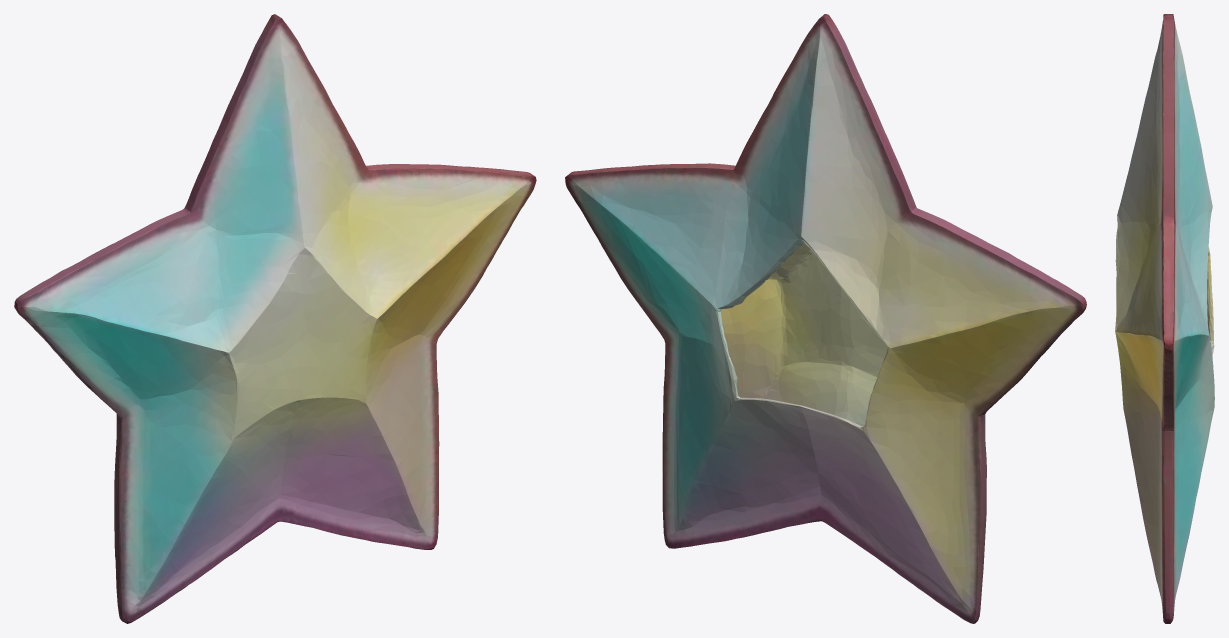
Rendered from star.glb.
3 views of the same model, side by side, from view 1: azimuth 30°, elevation 25°; view 2: azimuth 150°, elevation 25°; view 3: azimuth 270°, elevation 25° (orthographic). The views are drawn at different scales.
Visible parts, largest first — view 1: world; view 2: world; view 3: world.
Boxes of the visible parts, x1,y1,x2,y2 form: world: (14, 14, 536, 623); world: (565, 14, 1086, 623); world: (1115, 14, 1214, 623).
Bounding box in the file's own units: 0.945 × 0.9934 × 0.1665.
1 material, 1 textured.
